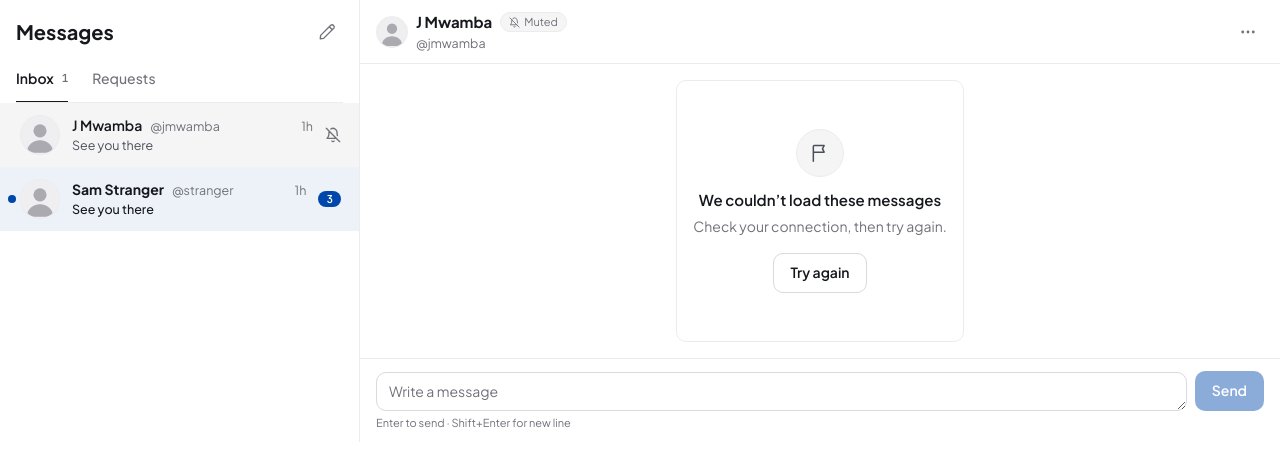
a conversation › shows a Muted pill in the thread header, unread count pill in inbox, and retries failed message loads
Expected: the text "Muted" is shown, x1=500 y1=12 x2=567 y2=32
Expected: the text "We couldn’t load these messages" is shown, x1=699 y1=189 x2=941 y2=212
Click the button "Try again".
click(820, 272)  # box x1=774 y1=252 x2=867 y2=292
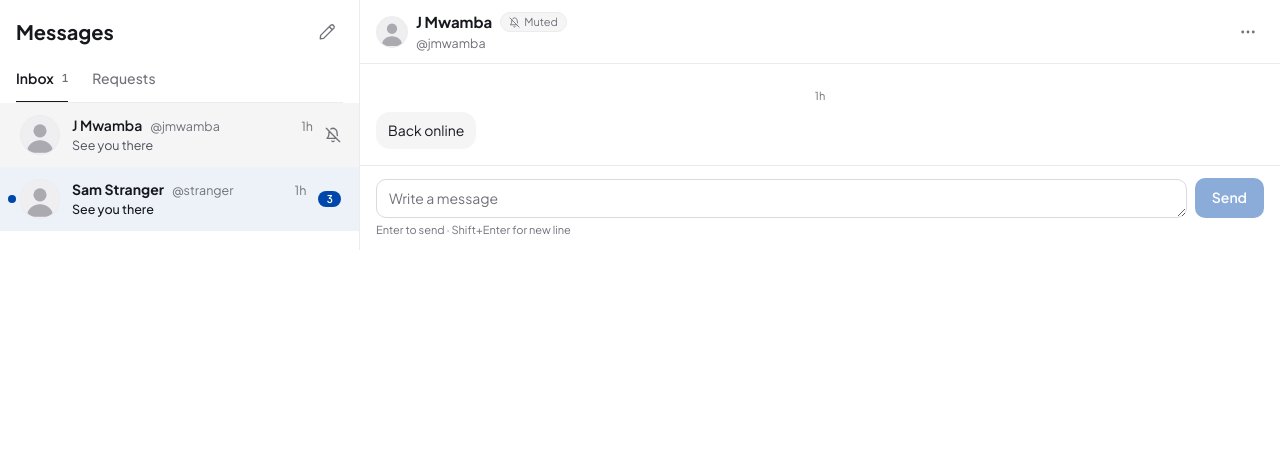
Expected: the text "Back online" is shown, x1=376 y1=112 x2=476 y2=149
